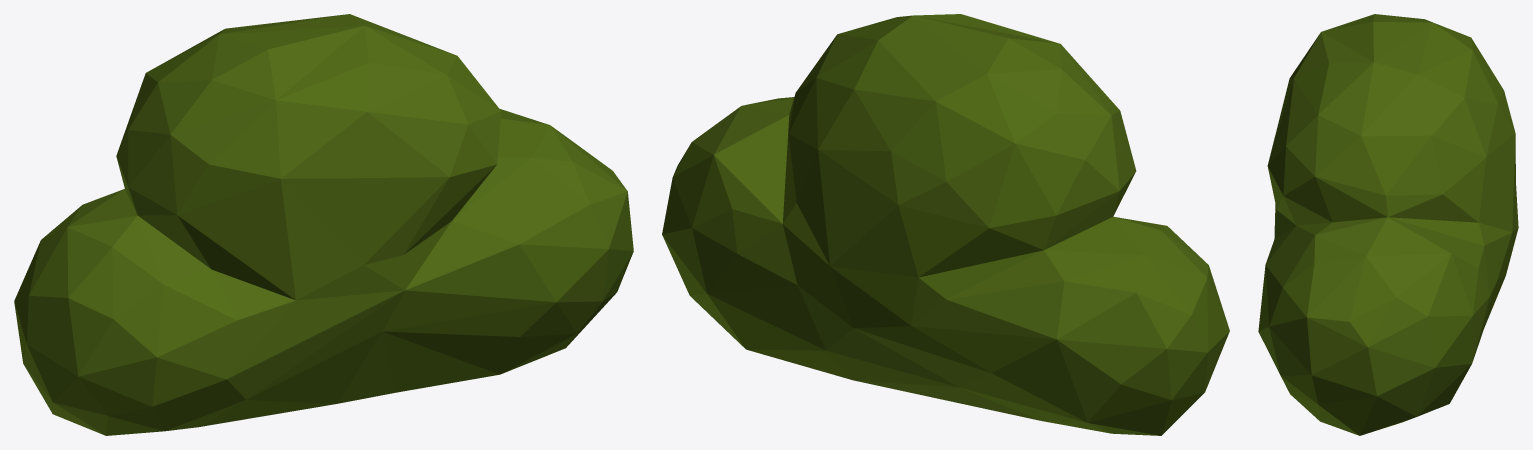
File: TreesAndBushes_009.fbx
The picture shows the model from 3 angles, left to right: view 1: azimuth 30°, elevation 25°; view 2: azimuth 150°, elevation 25°; view 3: azimuth 270°, elevation 25°; orthographic projection. The views are drawn at different scales.
Visible parts, largest first — view 1: TreesAndBushes_009; view 2: TreesAndBushes_009; view 3: TreesAndBushes_009.
Part boxes in pixels (x1,y1,x2,y2): TreesAndBushes_009: [14, 14, 633, 435]; TreesAndBushes_009: [662, 14, 1229, 435]; TreesAndBushes_009: [1258, 14, 1518, 435].
Bounding box in the file's own units: 96.24 × 55.52 × 45.24.
